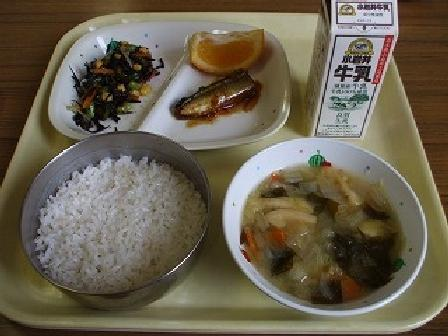Citrus: (182, 19, 276, 76)
Fish: (171, 66, 271, 124)
Milk: (302, 3, 402, 145)
Rice: (19, 137, 216, 305)
Salad: (63, 36, 163, 127)
Soups: (234, 150, 411, 304)
